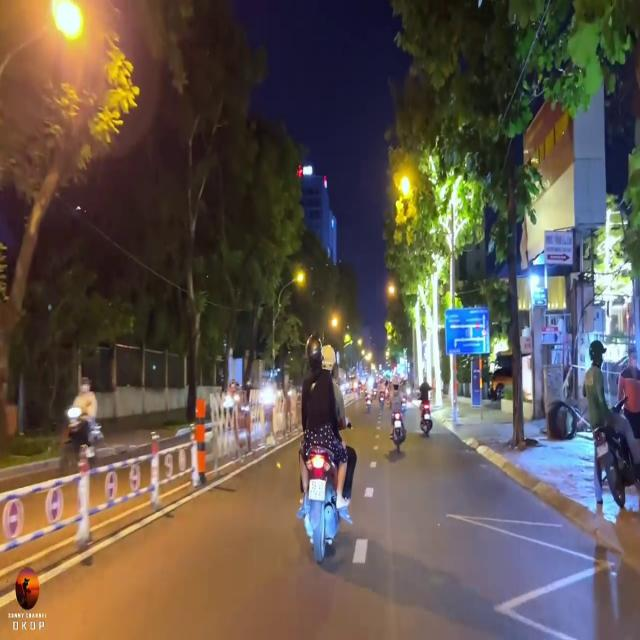bien_trang: (308, 479, 326, 498)
